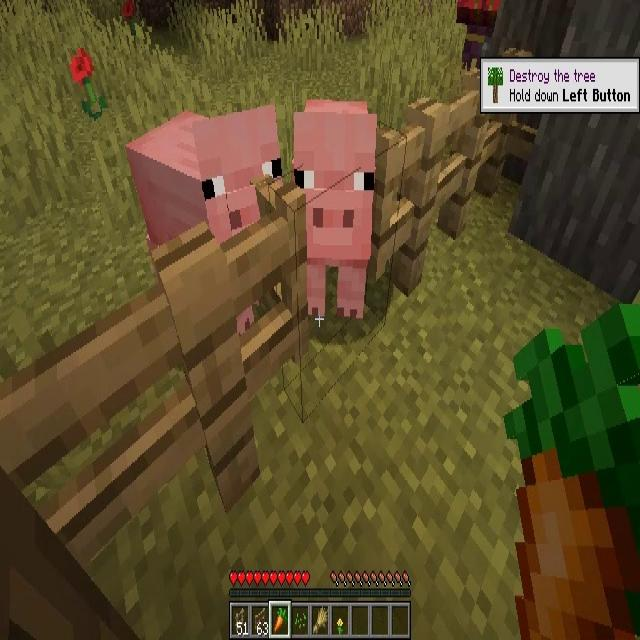pig: (124, 115, 285, 328), (294, 101, 376, 321)
